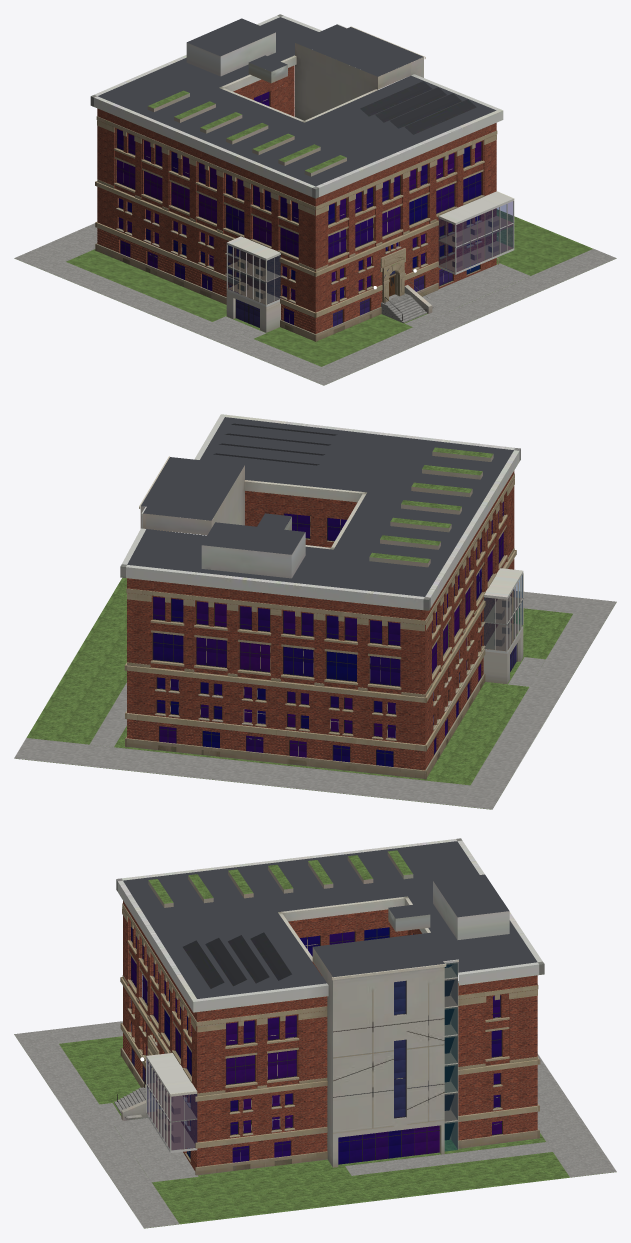
File: student-commons.glb
3 views of the same model, one above another, from view 1: azimuth 30°, elevation 25°; view 2: azimuth 150°, elevation 25°; view 3: azimuth 270°, elevation 25° (orthographic). The views are drawn at different scales.
Parts seen in each view (by area): view 1: StudentCommons_Trim, StudentCommons_Walls, StudentCommons_Roof, StudentCommons_Paving, StudentCommons_Glass, StudentCommons_Lawn, StudentCommons_CurtainGlass, StudentCommons_Interior; view 2: StudentCommons_Trim, StudentCommons_Walls, StudentCommons_Roof, StudentCommons_Paving, StudentCommons_Lawn, StudentCommons_Glass, StudentCommons_CurtainGlass, StudentCommons_Interior; view 3: StudentCommons_Trim, StudentCommons_Walls, StudentCommons_Roof, StudentCommons_Lawn, StudentCommons_Paving, StudentCommons_Glass, StudentCommons_CurtainGlass, StudentCommons_Interior.
Boxes of the visible parts, x1,y1,x2,y2 form: StudentCommons_Trim: [90, 14, 514, 341]; StudentCommons_Walls: [97, 65, 496, 333]; StudentCommons_Roof: [98, 17, 496, 186]; StudentCommons_Paving: [14, 223, 616, 385]; StudentCommons_Glass: [117, 91, 481, 327]; StudentCommons_Lawn: [19, 90, 612, 384]; StudentCommons_CurtainGlass: [227, 201, 513, 303]; StudentCommons_Interior: [228, 216, 513, 304]; StudentCommons_Trim: [120, 414, 523, 779]; StudentCommons_Walls: [127, 471, 514, 770]; StudentCommons_Roof: [127, 417, 513, 596]; StudentCommons_Paving: [14, 591, 616, 809]; StudentCommons_Lawn: [16, 447, 583, 809]; StudentCommons_Glass: [153, 502, 516, 766]; StudentCommons_CurtainGlass: [484, 574, 522, 650]; StudentCommons_Interior: [160, 530, 522, 651]; StudentCommons_Trim: [116, 838, 544, 1175]; StudentCommons_Walls: [123, 901, 537, 1170]; StudentCommons_Roof: [123, 841, 537, 998]; StudentCommons_Lawn: [59, 850, 616, 1228]; StudentCommons_Paving: [14, 981, 616, 1228]; StudentCommons_Glass: [131, 927, 501, 1164]; StudentCommons_CurtainGlass: [147, 962, 457, 1151]; StudentCommons_Interior: [147, 962, 457, 1150].
Size of the model in its own units: 65.83 by 24.35 by 66.87.
Materials: 9 (6 with a texture image).
